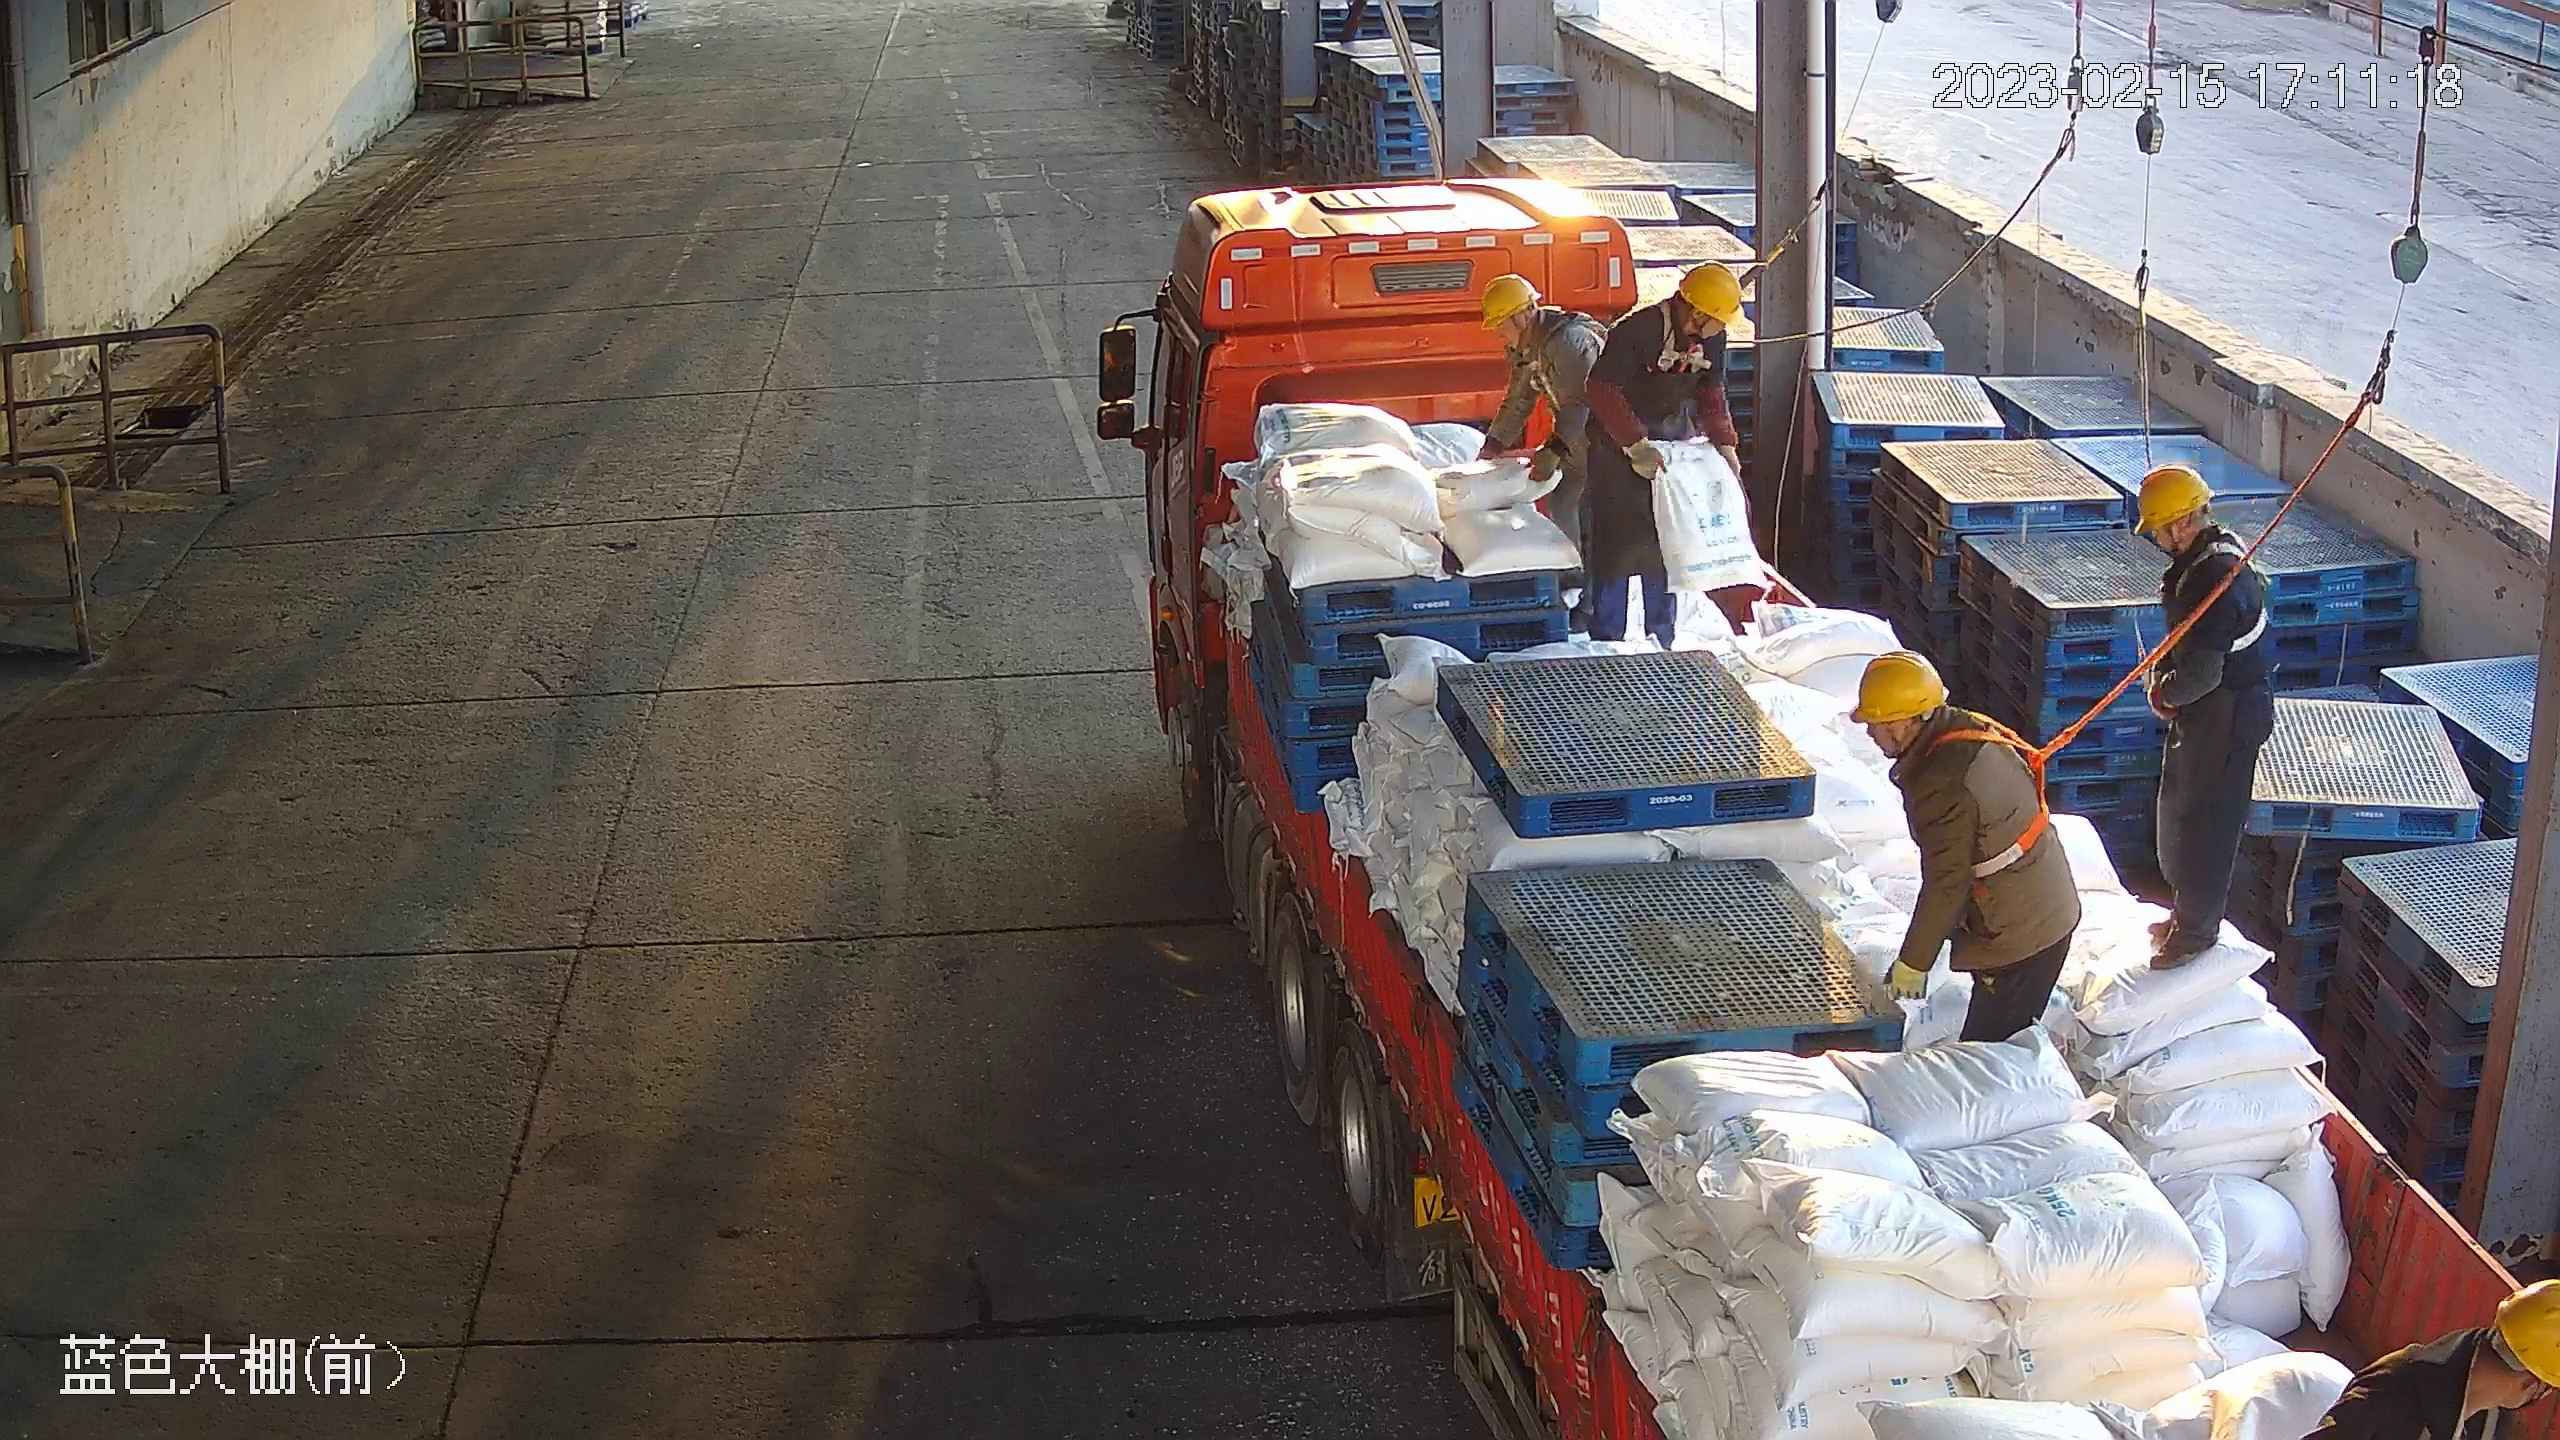belt: (1945, 708, 2103, 878), (2176, 527, 2283, 649), (1642, 306, 1729, 388), (1517, 367, 1571, 420)
head: (2339, 1274, 2560, 1440), (1852, 649, 2012, 825), (2135, 469, 2266, 627), (1603, 261, 1749, 386), (1471, 266, 1593, 400)
helmet: (1844, 649, 1951, 722), (2498, 1279, 2560, 1386), (2137, 461, 2213, 537), (1679, 262, 1742, 332), (1483, 278, 1535, 328)
people: (1852, 652, 2090, 1042), (2135, 466, 2276, 971), (1583, 250, 1740, 644)
truck: (1098, 178, 2560, 1440)
